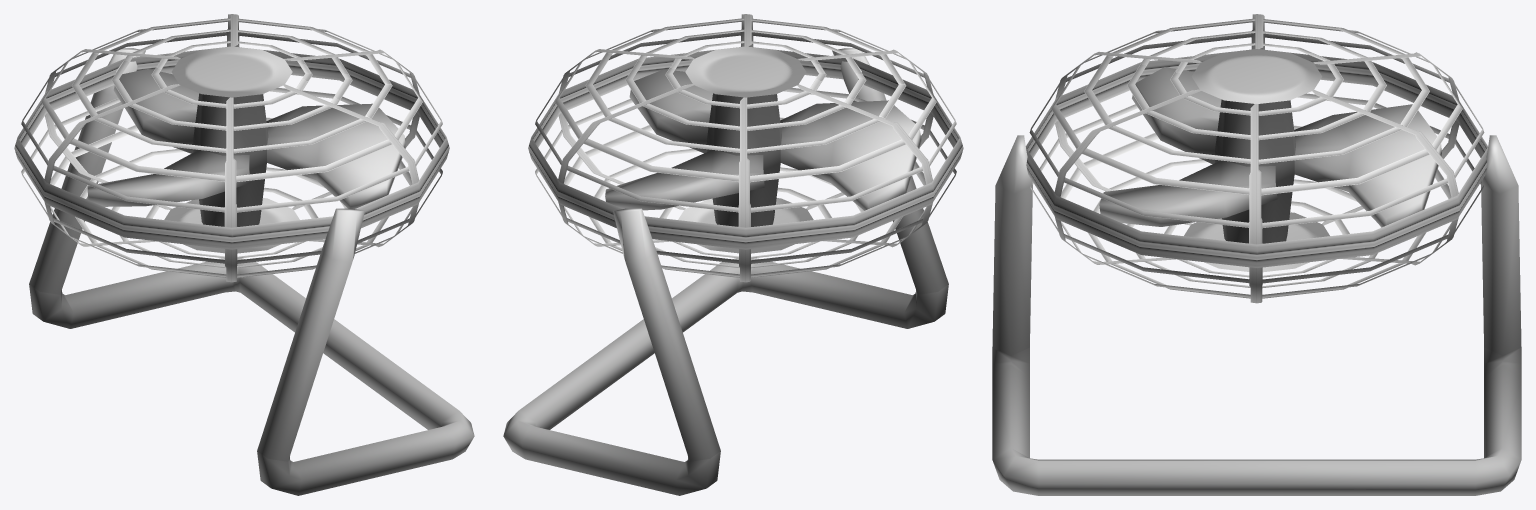
The model's file is wiatrak.fbx.
3 views of the same model, side by side, from view 1: azimuth 30°, elevation 25°; view 2: azimuth 150°, elevation 25°; view 3: azimuth 270°, elevation 25° (orthographic). The views are drawn at different scales.
Parts seen in each view (by area): view 1: polySurface89, pCylinder2, pCylinder3; view 2: polySurface89, pCylinder2, pCylinder3; view 3: polySurface89, pCylinder2, pCylinder3.
Boxes of the visible parts, x1,y1,x2,y2 form: polySurface89: [14, 14, 449, 282]; pCylinder2: [29, 48, 474, 495]; pCylinder3: [87, 69, 405, 226]; polySurface89: [528, 14, 963, 282]; pCylinder2: [503, 48, 948, 495]; pCylinder3: [605, 69, 921, 226]; polySurface89: [1025, 14, 1488, 303]; pCylinder2: [992, 135, 1521, 495]; pCylinder3: [1099, 67, 1441, 243].
Size of the model in its own units: 7.42 by 6.14 by 8.36.
